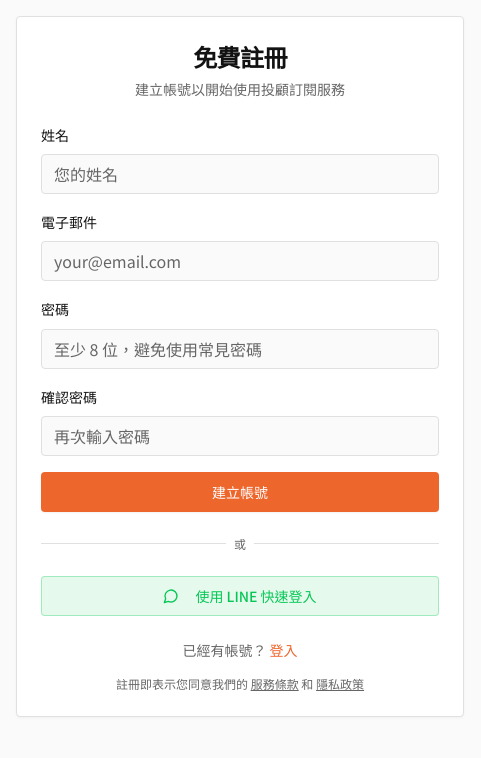
Test: Register form validation › rejects passwords shorter than 8 characters
The image size is (481, 758).
In the field labelled "姓名": x=240, y=174 [41, 154, 439, 194], type "Alice"
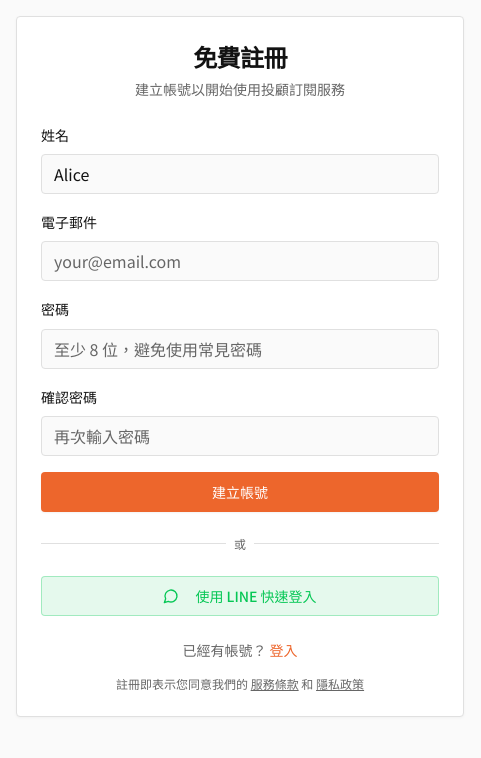
In the field labelled "電子郵件": x=240, y=261 [41, 241, 439, 281], type "a@b.co"
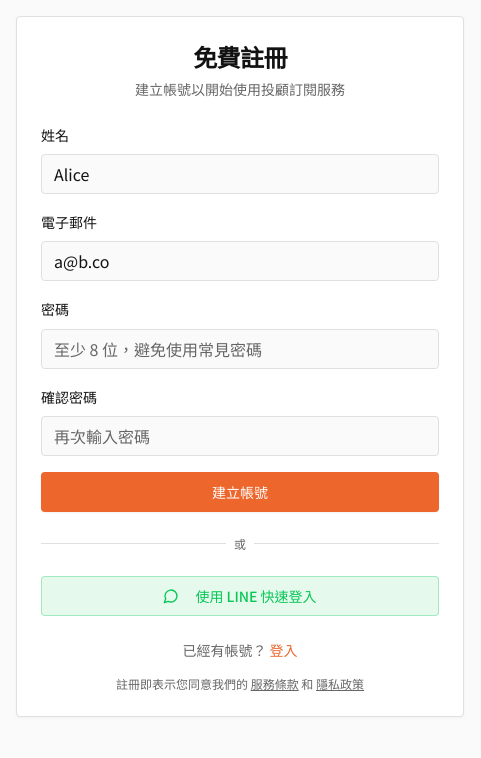
In the password field labelled "密碼": x=240, y=349 [41, 329, 439, 369], type "short"
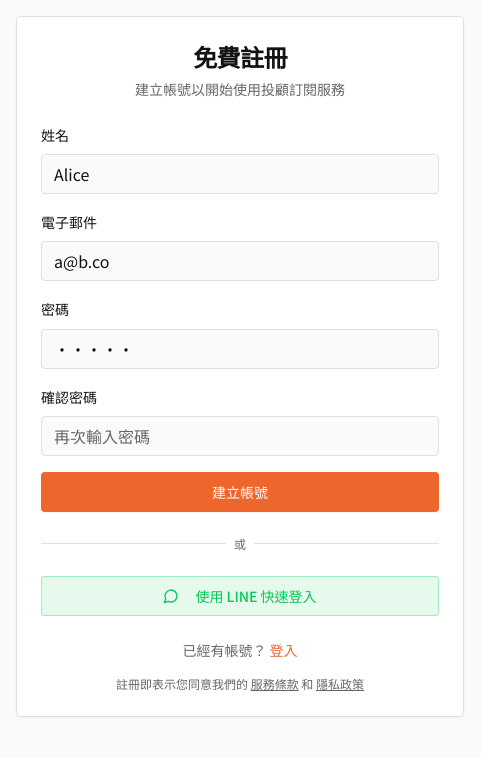
In the password field labelled "確認密碼": x=240, y=436 [41, 416, 439, 456], type "short"
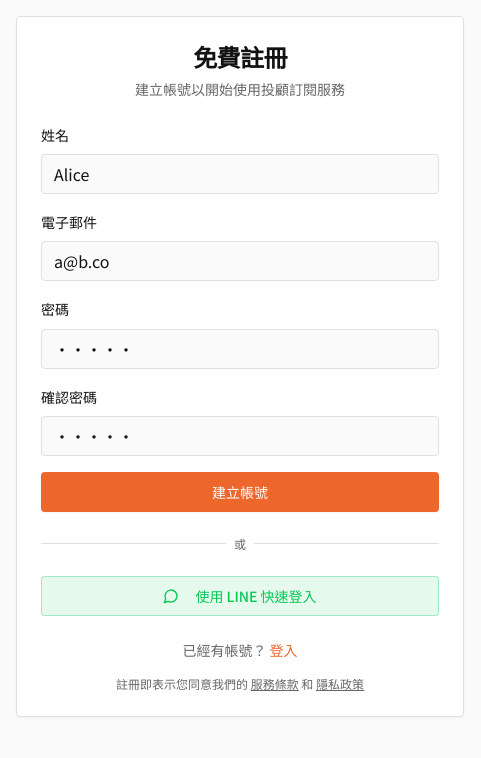
Submit the form "建立帳號", box [41, 123, 439, 512]
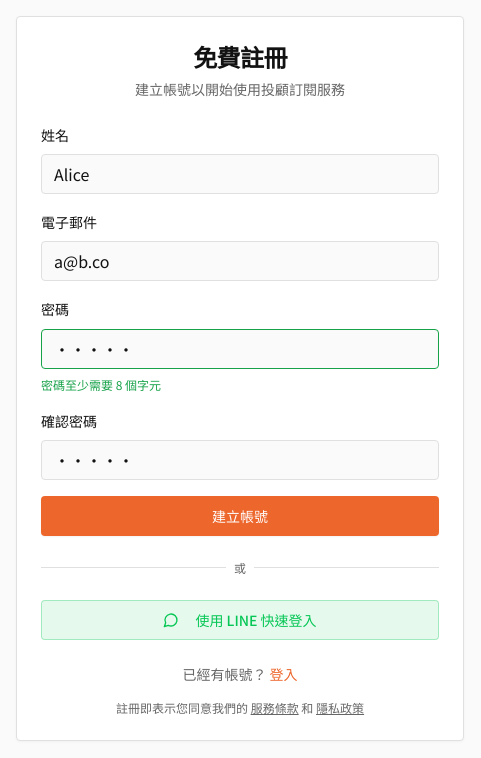
Expected: the text "密碼至少需要 8 個字元" is shown, [41, 376, 161, 393]
